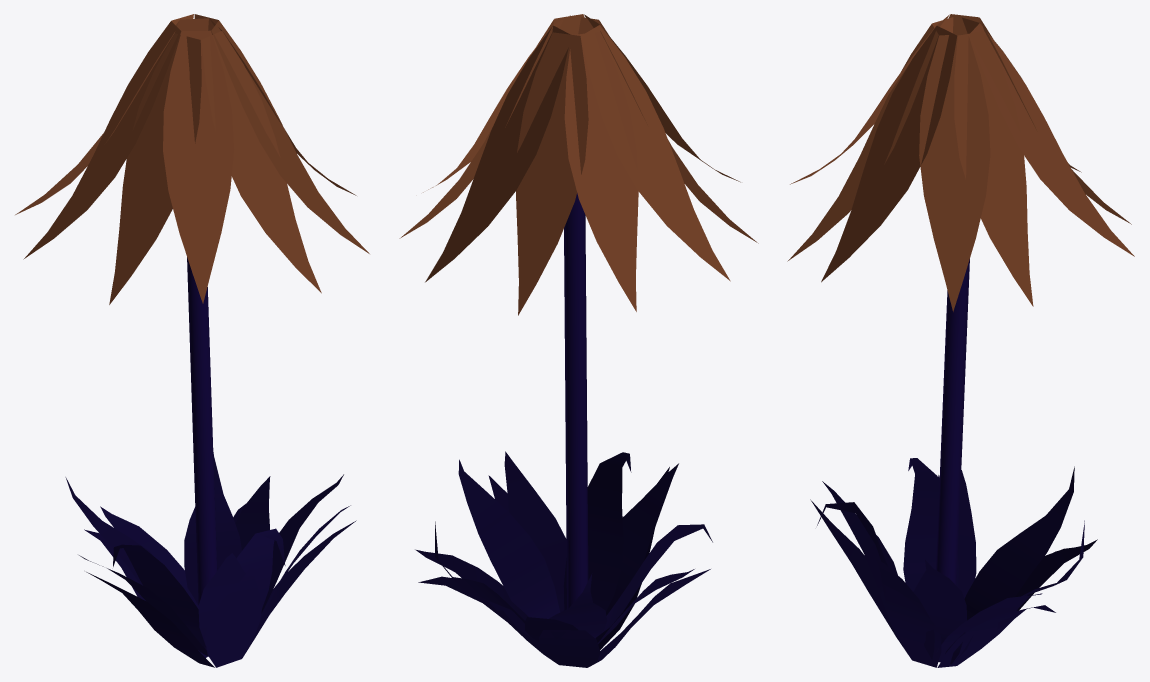
3 renders of one model, left to right at view 1: azimuth 30°, elevation 25°; view 2: azimuth 150°, elevation 25°; view 3: azimuth 270°, elevation 25°, orthographic. The views are drawn at different scales.
Visible parts, largest first — view 1: brush_Petal_g1_b0, brush_Icing_g1_b0; view 2: brush_Petal_g1_b0, brush_Icing_g1_b0; view 3: brush_Petal_g1_b0, brush_Icing_g1_b0.
Boxes of the visible parts, x1=… form: brush_Petal_g1_b0: x1=15, y1=14, x2=369, y2=667; brush_Icing_g1_b0: x1=187, y1=257, x2=217, y2=656; brush_Petal_g1_b0: x1=399, y1=14, x2=758, y2=667; brush_Icing_g1_b0: x1=564, y1=193, x2=588, y2=608; brush_Petal_g1_b0: x1=787, y1=14, x2=1134, y2=667; brush_Icing_g1_b0: x1=936, y1=259, x2=969, y2=585.
Size of the model in its own units: 4.87 by 9.18 by 4.56.
